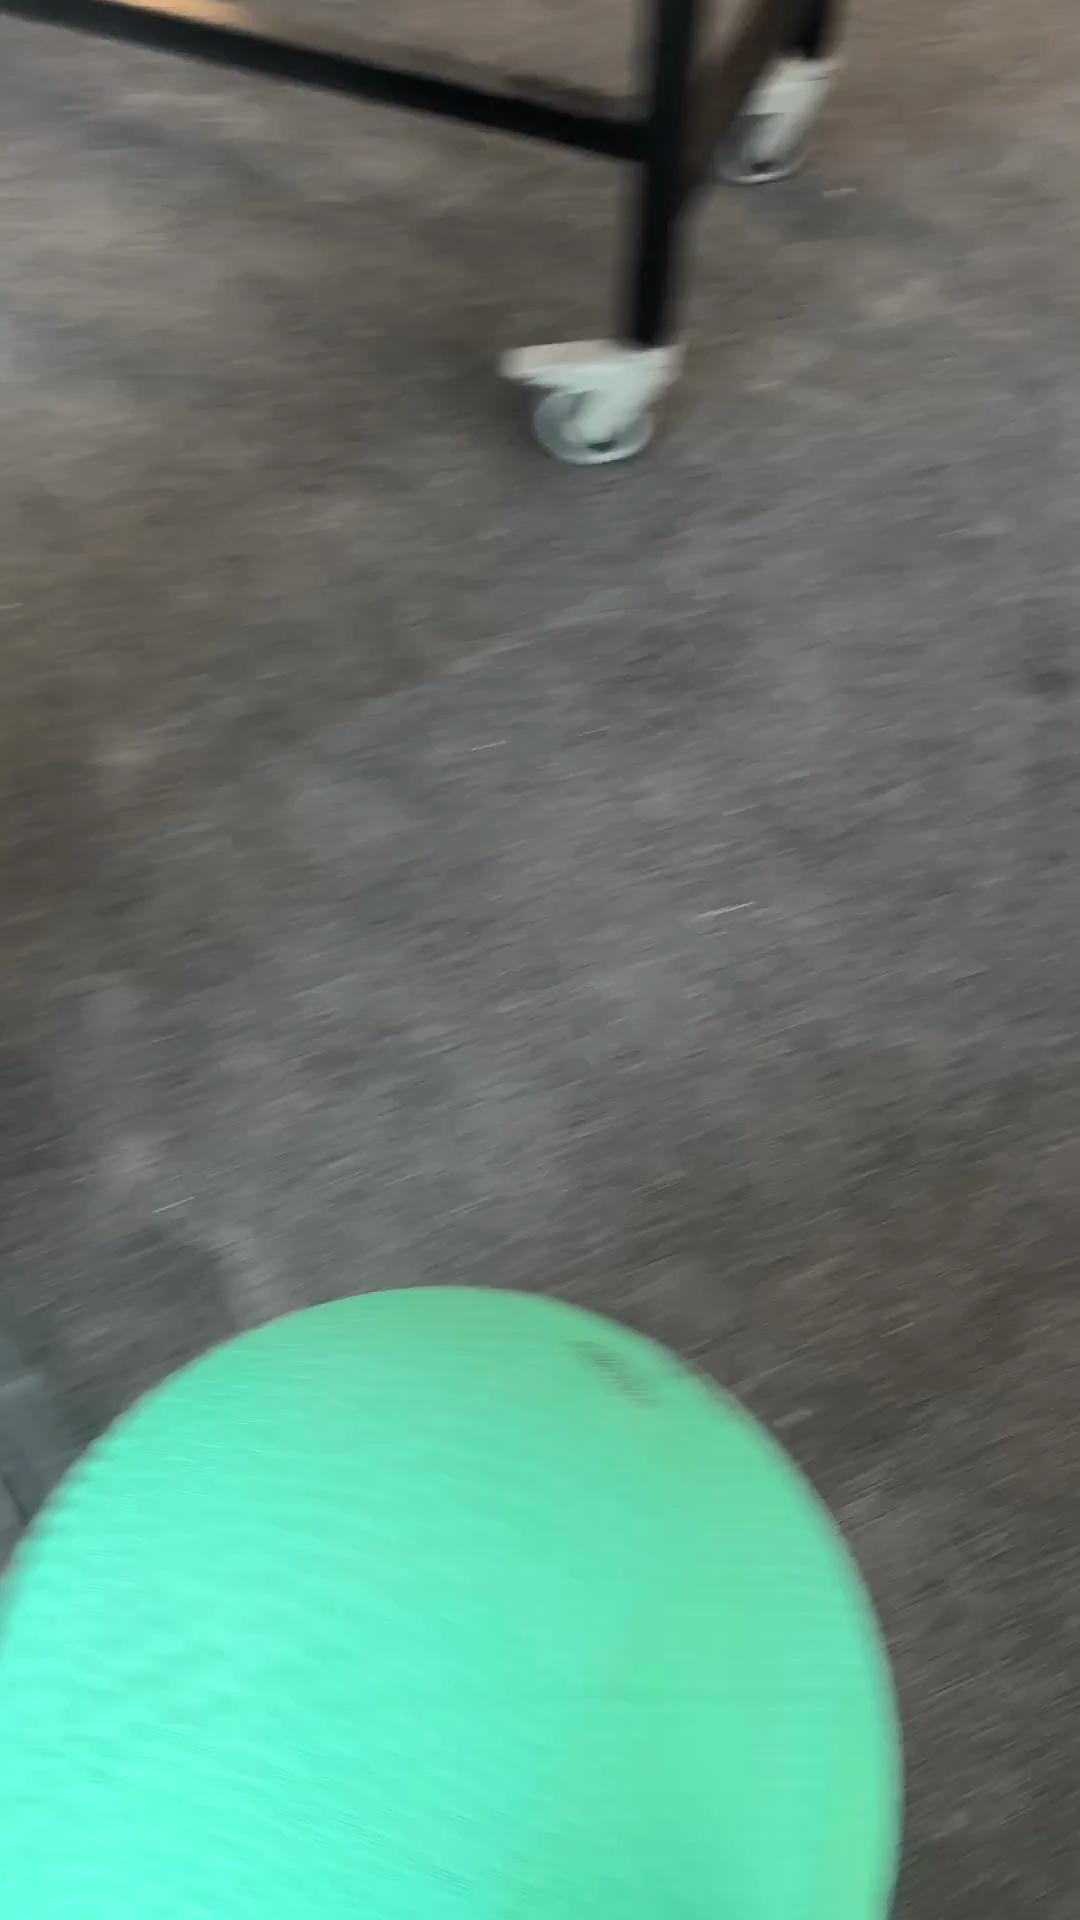ALGAE: (2, 1279, 907, 1917)
